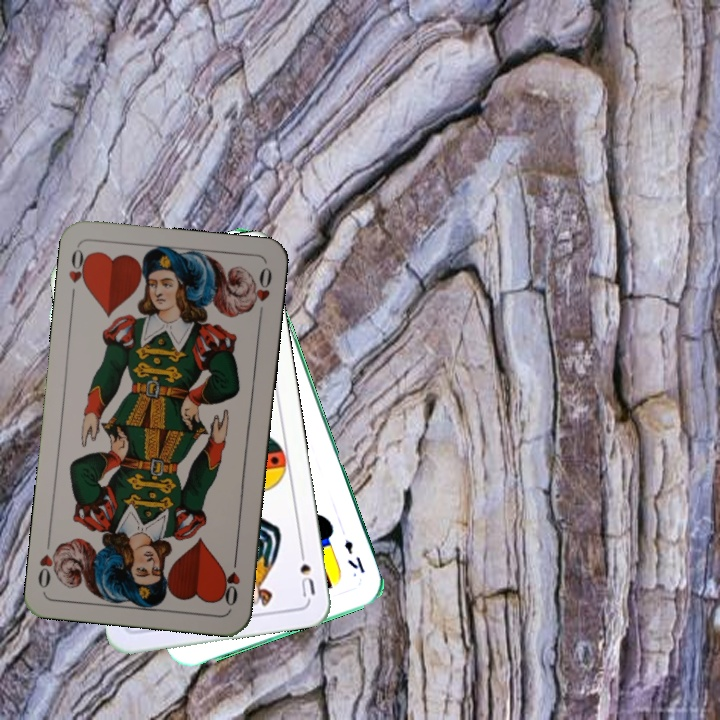EK: (340, 536, 368, 576)
HO: (64, 244, 93, 303), (218, 551, 243, 609)
SU: (295, 542, 318, 600)
